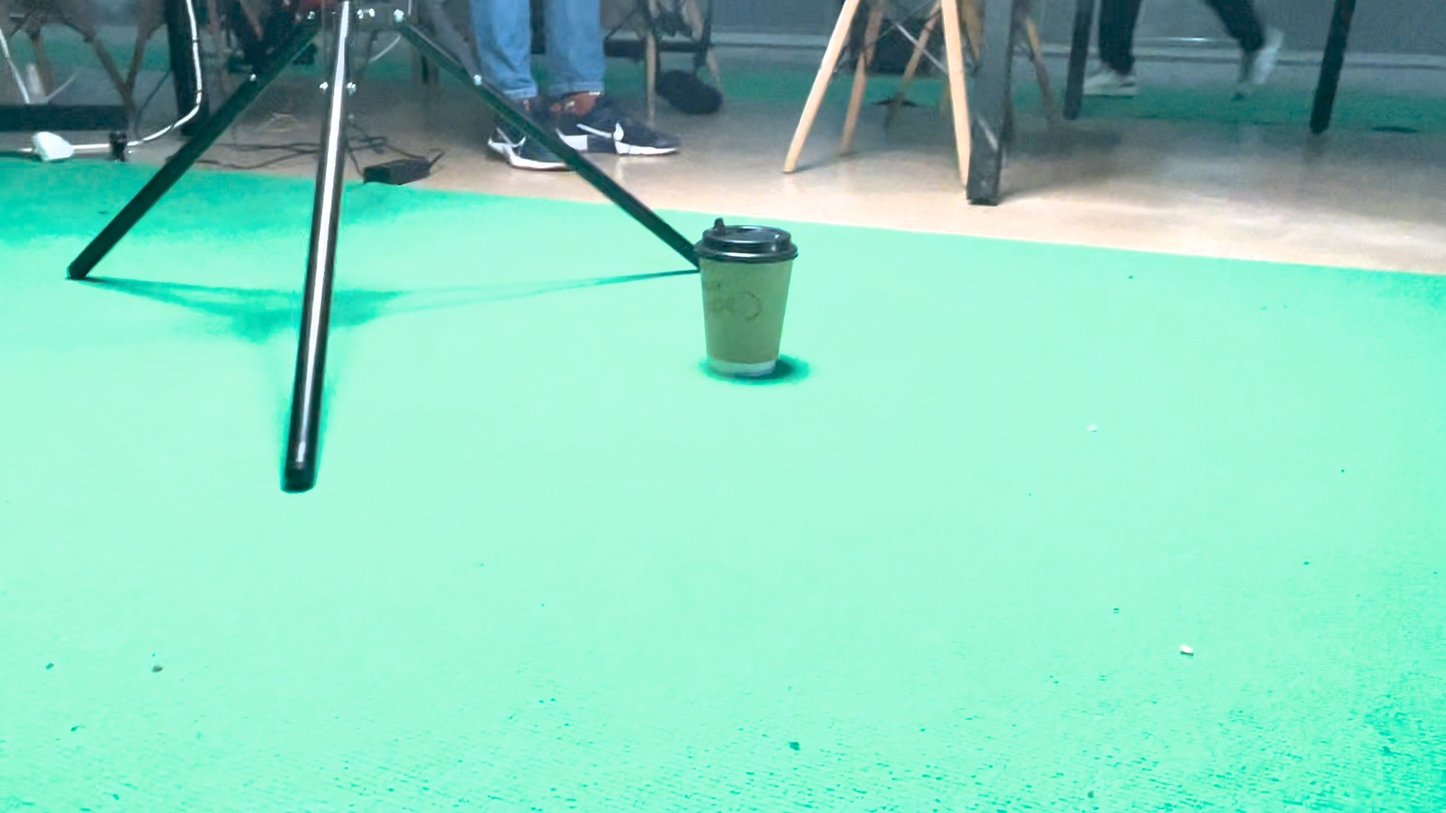cup: (686, 431, 802, 596)
